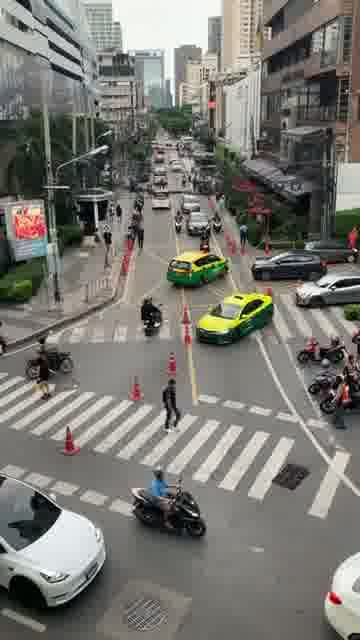bike: (131, 472, 206, 538), (307, 358, 359, 395), (296, 329, 349, 364), (319, 374, 359, 414), (24, 349, 74, 380), (143, 302, 163, 336), (211, 214, 222, 233), (199, 234, 210, 253), (174, 214, 183, 233)
car: (0, 467, 106, 610), (195, 291, 274, 345), (324, 549, 360, 640), (250, 247, 328, 281), (294, 268, 359, 308), (165, 250, 230, 286), (303, 239, 358, 264), (187, 210, 211, 235), (151, 189, 173, 211), (180, 193, 200, 213)
pedestrian: (328, 374, 352, 431), (161, 377, 180, 432), (34, 351, 50, 401), (238, 221, 248, 249), (136, 219, 145, 249), (102, 228, 112, 253), (92, 227, 101, 250), (115, 203, 122, 225), (107, 202, 114, 224), (218, 193, 225, 209)
